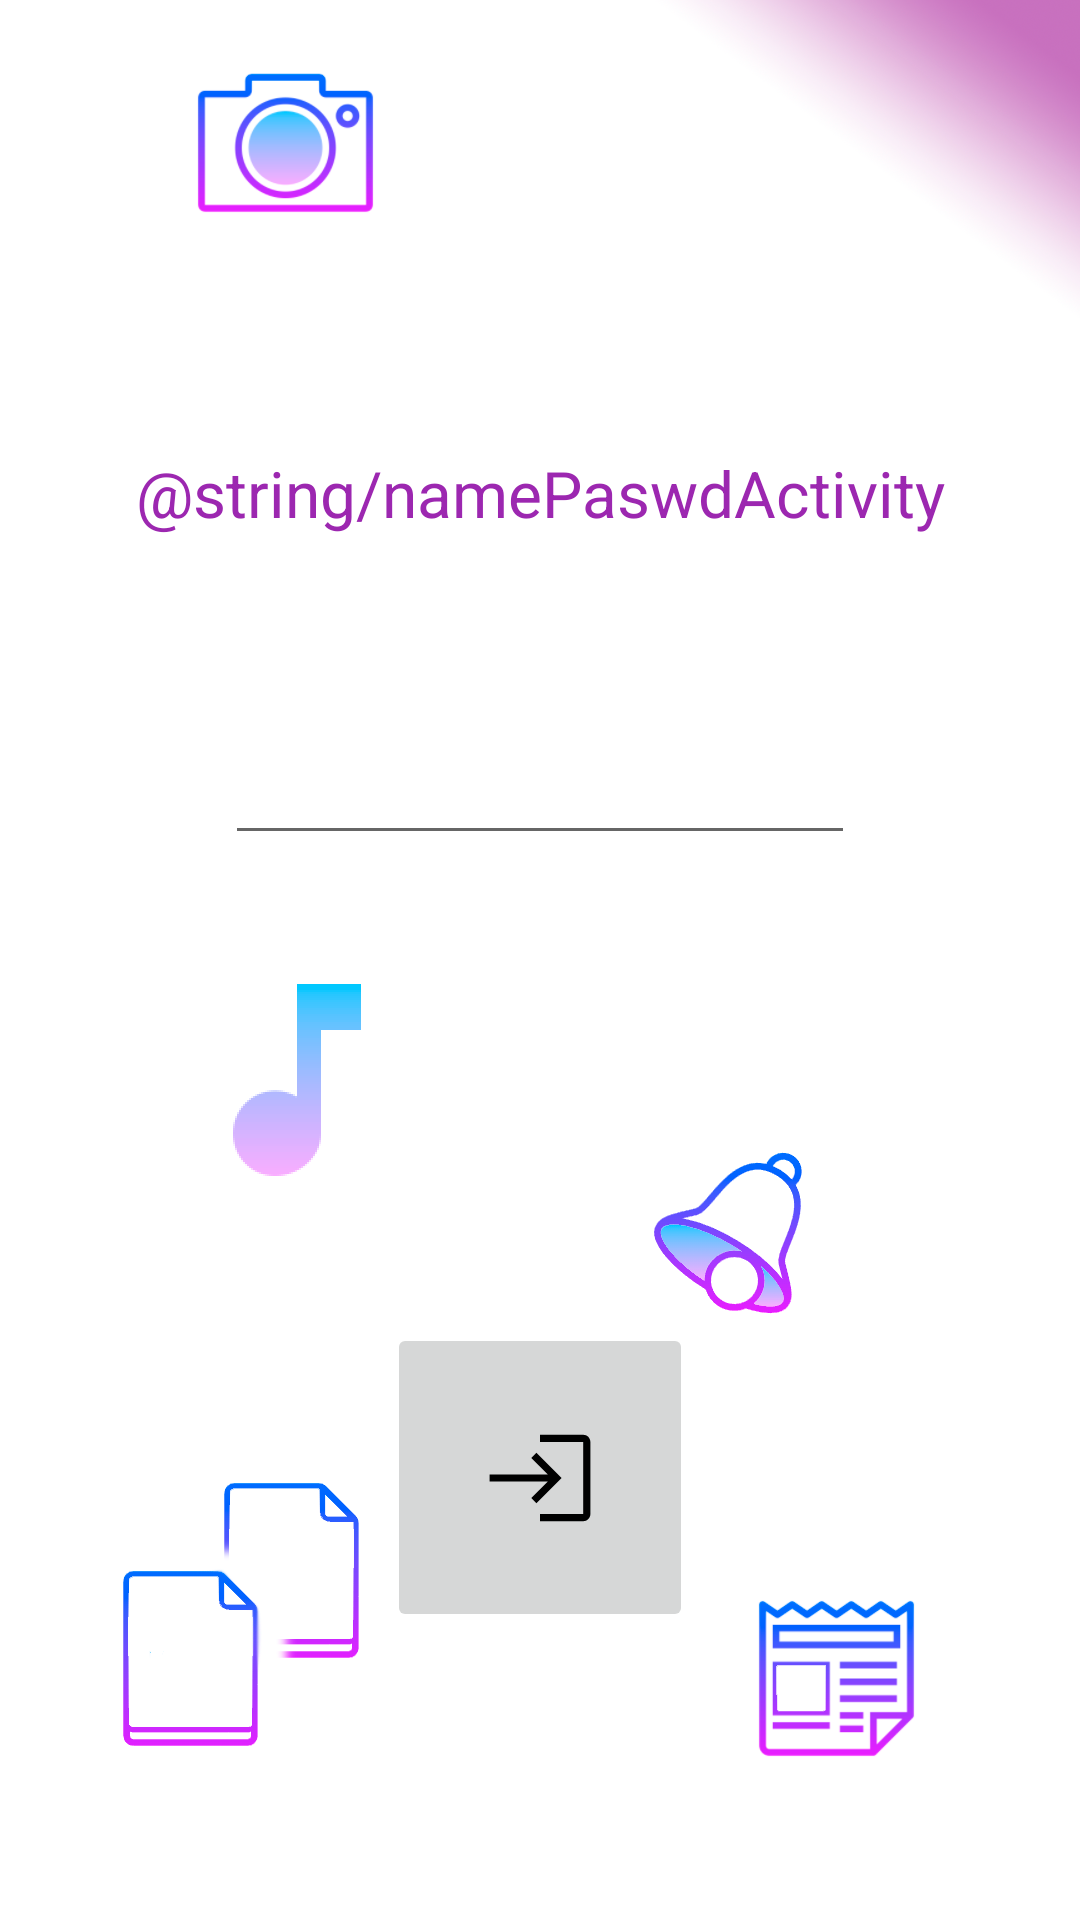

Icons on this 1080px x 1920px Android screen, each with the point to tap as point (x, y):
login: point (540, 1477)
